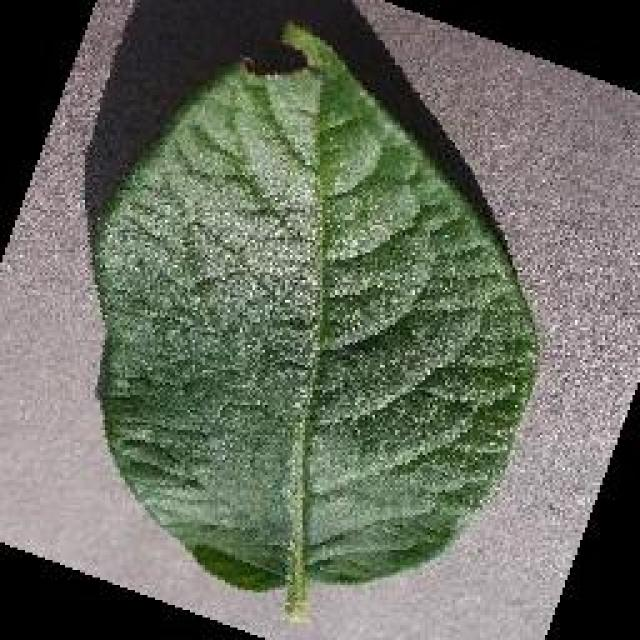Potato___healthy: (88, 16, 545, 627)
